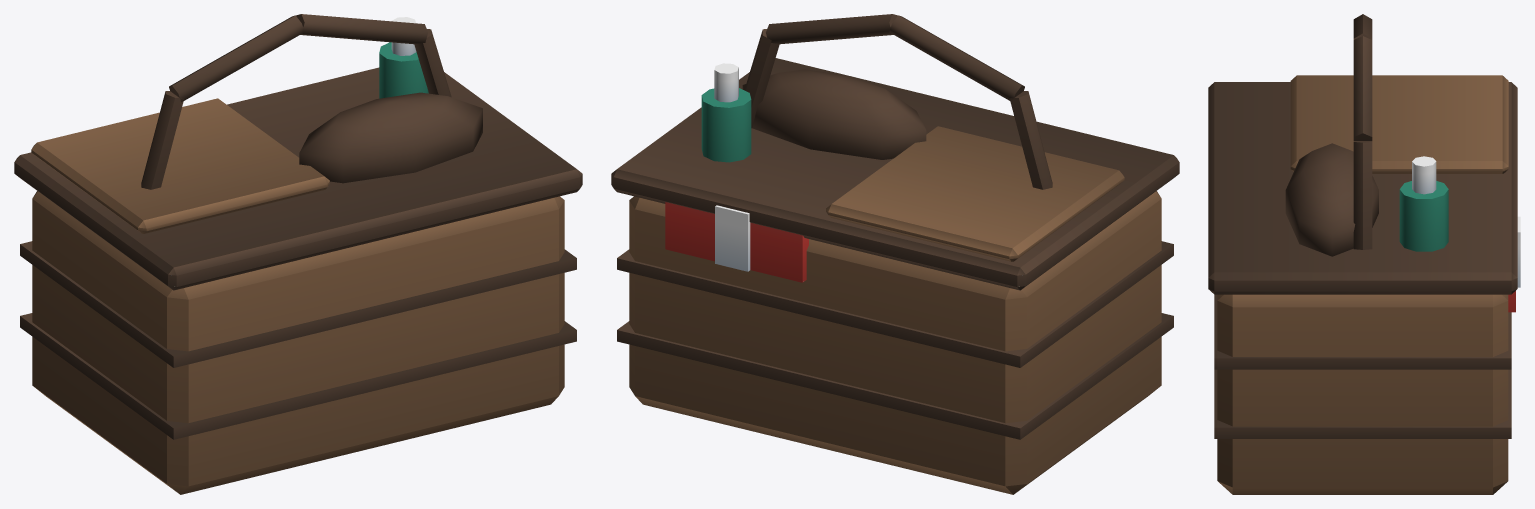
The model's file is ck_picnic_basket.fbx.
3 views of the same model, side by side, from view 1: azimuth 30°, elevation 25°; view 2: azimuth 150°, elevation 25°; view 3: azimuth 270°, elevation 25° (orthographic). The views are drawn at different scales.
Visible parts, largest first — view 1: ck_picnic_basket; view 2: ck_picnic_basket; view 3: ck_picnic_basket.
Boxes of the visible parts, left/top/right/bottom form: ck_picnic_basket: left=14, top=14, right=582, bottom=494; ck_picnic_basket: left=611, top=14, right=1179, bottom=494; ck_picnic_basket: left=1208, top=14, right=1520, bottom=494.
Bounding box in the file's own units: 150 × 133 × 101.
